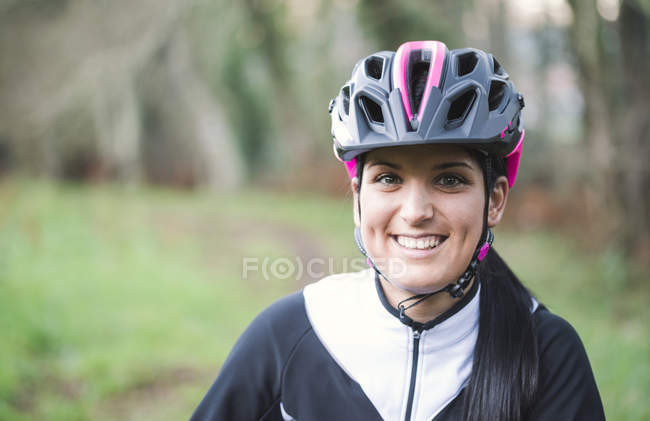helmet: (330, 40, 526, 294)
